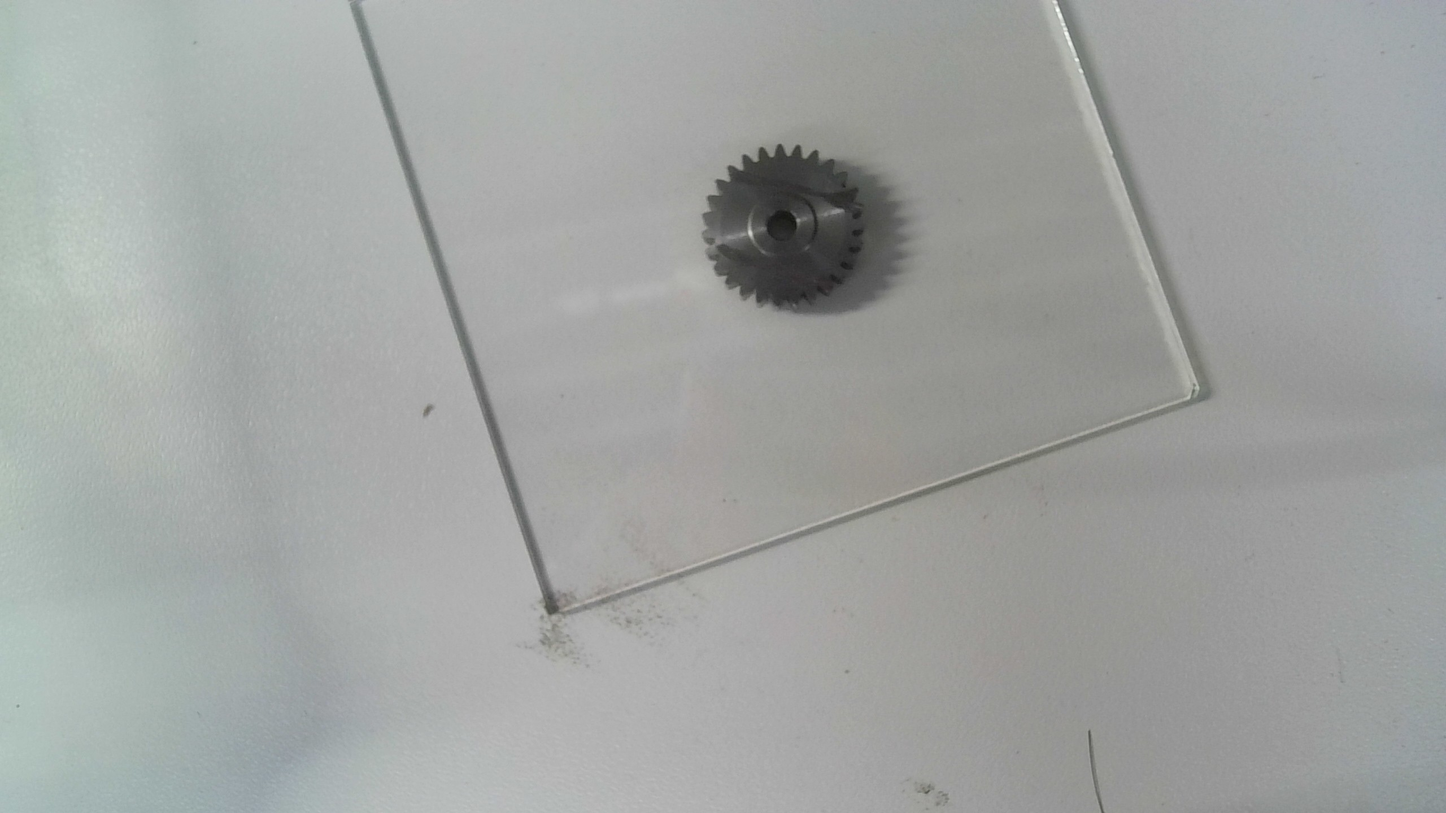gear: (698, 140, 866, 313)
